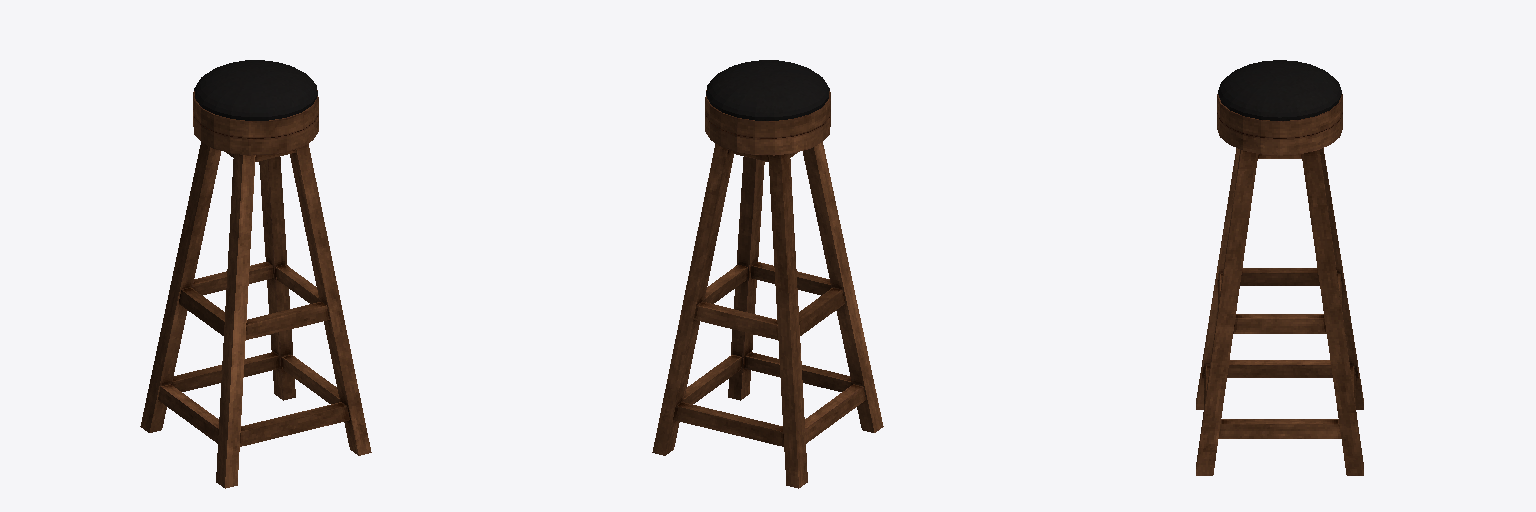
3 views of the same model, side by side, from view 1: azimuth 30°, elevation 25°; view 2: azimuth 150°, elevation 25°; view 3: azimuth 270°, elevation 25° (orthographic).
Visible parts, largest first — view 1: Stool_Q; view 2: Stool_Q; view 3: Stool_Q.
Boxes of the visible parts, <box> form: Stool_Q: <box>140,60,371,488</box>; Stool_Q: <box>652,60,883,488</box>; Stool_Q: <box>1196,60,1363,475</box>.
Size of the model in its own units: 0.3483 by 0.8341 by 0.3473.
1 materials, 1 textured.